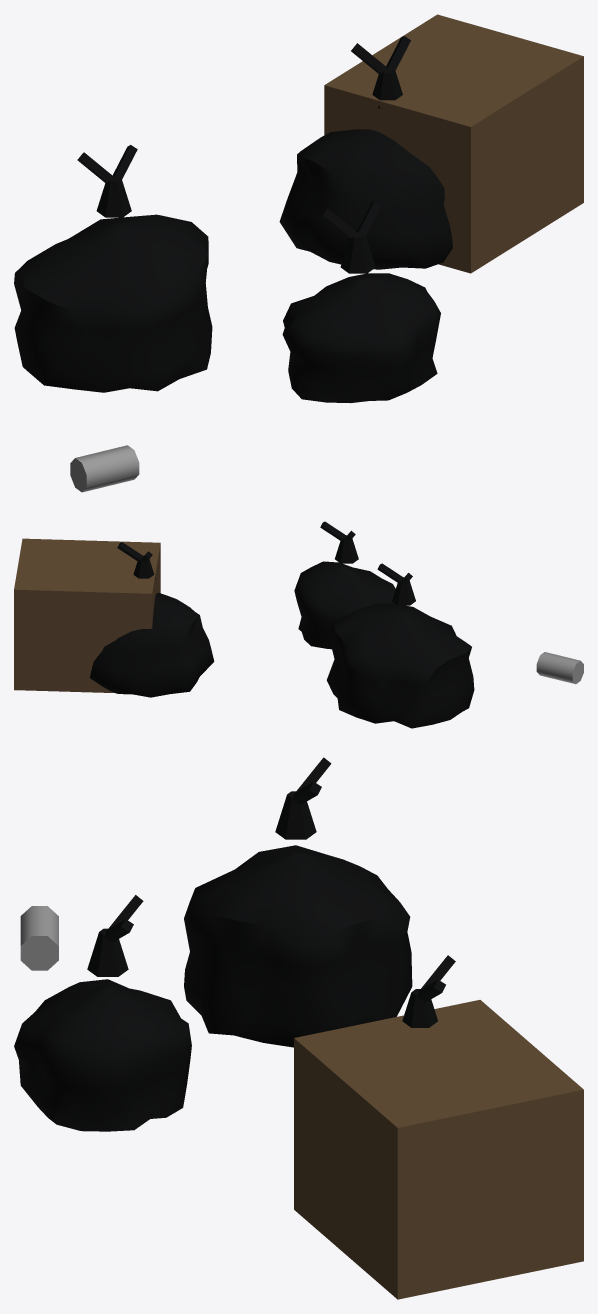
File: St_TrashBags_C.fbx
3 views of the same model, one above another, from view 1: azimuth 30°, elevation 25°; view 2: azimuth 150°, elevation 25°; view 3: azimuth 270°, elevation 25° (orthographic). The views are drawn at different scales.
Parts seen in each view (by area): view 1: St_TrashBags_C_LOD0; view 2: St_TrashBags_C_LOD0; view 3: St_TrashBags_C_LOD0.
Boxes of the visible parts, left/top/right/bottom form: St_TrashBags_C_LOD0: left=14, top=14, right=583, bottom=492; St_TrashBags_C_LOD0: left=14, top=521, right=583, bottom=728; St_TrashBags_C_LOD0: left=14, top=757, right=583, bottom=1299.
Size of what is drawn, in the model's own units: 1.5 by 0.4768 by 0.9629.
